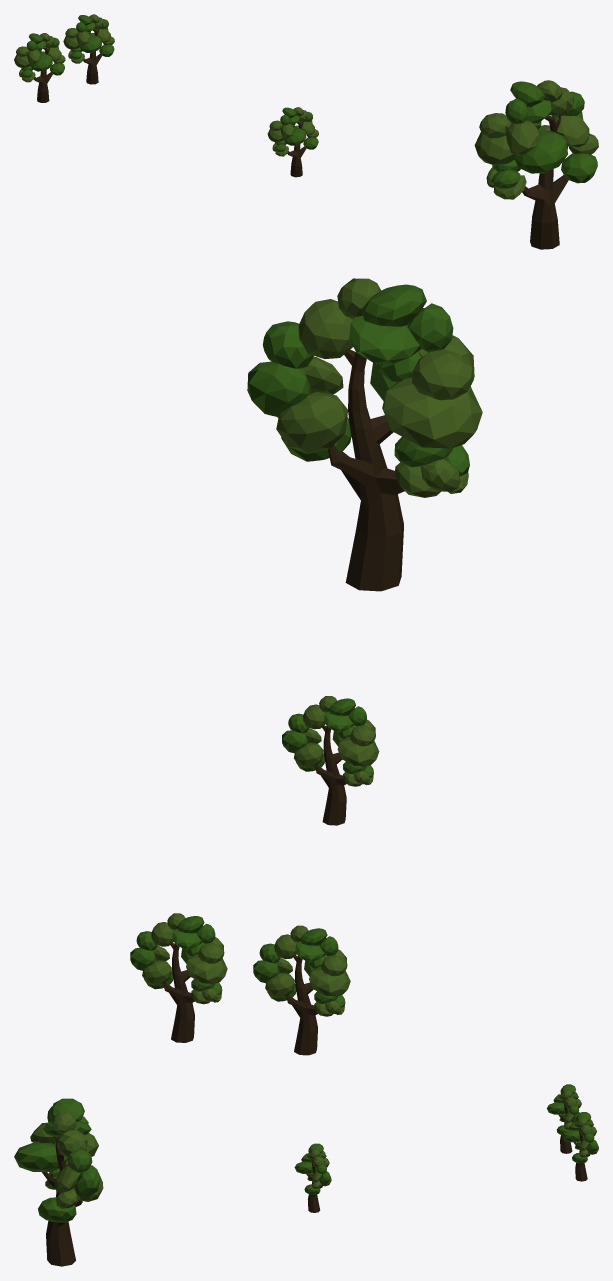
The model's file is decor13.obj.
3 views of the same model, one above another, from view 1: azimuth 30°, elevation 25°; view 2: azimuth 150°, elevation 25°; view 3: azimuth 270°, elevation 25° (orthographic). The views are drawn at different scales.
Visible parts, largest first — view 1: Oak_Cylinder.003, Oak_Cylinder.002, Oak_Cylinder.004, Oak_Cylinder.001; view 2: Oak_Cylinder.003, Oak_Cylinder.002, Oak_Cylinder.004, Oak_Cylinder.001; view 3: Oak_Cylinder.003, Oak_Cylinder.001, Oak_Cylinder.002, Oak_Cylinder.004.
Part boxes in pixels (left/top/right/bottom): Oak_Cylinder.003: left=474, top=80, right=598, bottom=249; Oak_Cylinder.002: left=267, top=107, right=318, bottom=177; Oak_Cylinder.004: left=14, top=33, right=65, bottom=102; Oak_Cylinder.001: left=63, top=14, right=114, bottom=84; Oak_Cylinder.003: left=247, top=278, right=482, bottom=591; Oak_Cylinder.002: left=282, top=696, right=379, bottom=825; Oak_Cylinder.004: left=253, top=925, right=350, bottom=1055; Oak_Cylinder.001: left=130, top=913, right=227, bottom=1042; Oak_Cylinder.003: left=14, top=1098, right=103, bottom=1266; Oak_Cylinder.001: left=562, top=1112, right=598, bottom=1181; Oak_Cylinder.002: left=294, top=1143, right=331, bottom=1212; Oak_Cylinder.004: left=547, top=1084, right=581, bottom=1153.
Bounding box in the file's own units: 2768 × 1386 × 4780.
